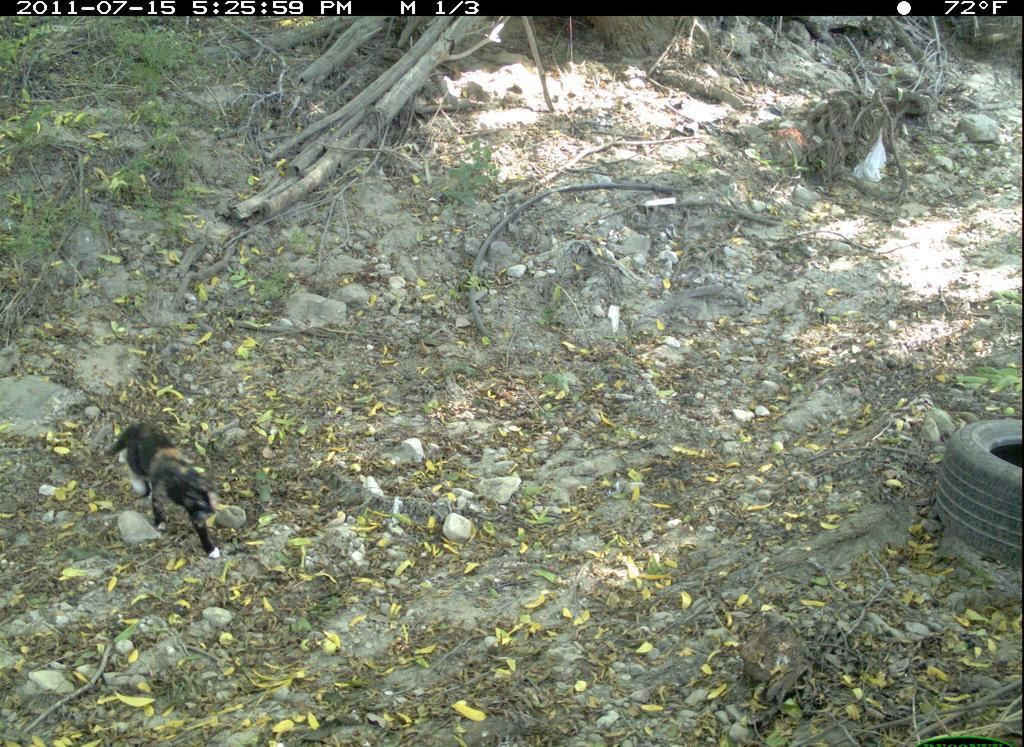cat: (88, 396, 253, 571)
